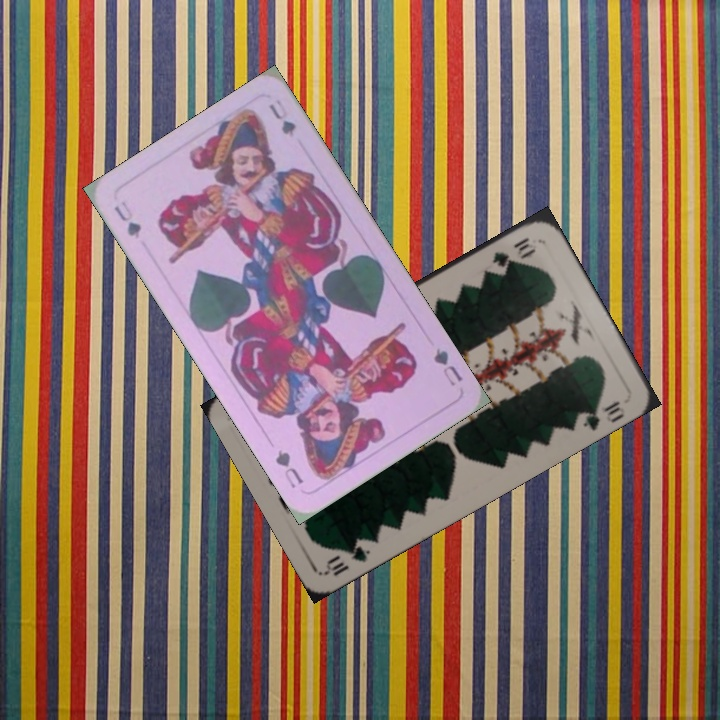G10: (321, 534, 375, 579), (488, 233, 539, 270)
GU: (429, 344, 466, 389), (109, 197, 144, 242)
